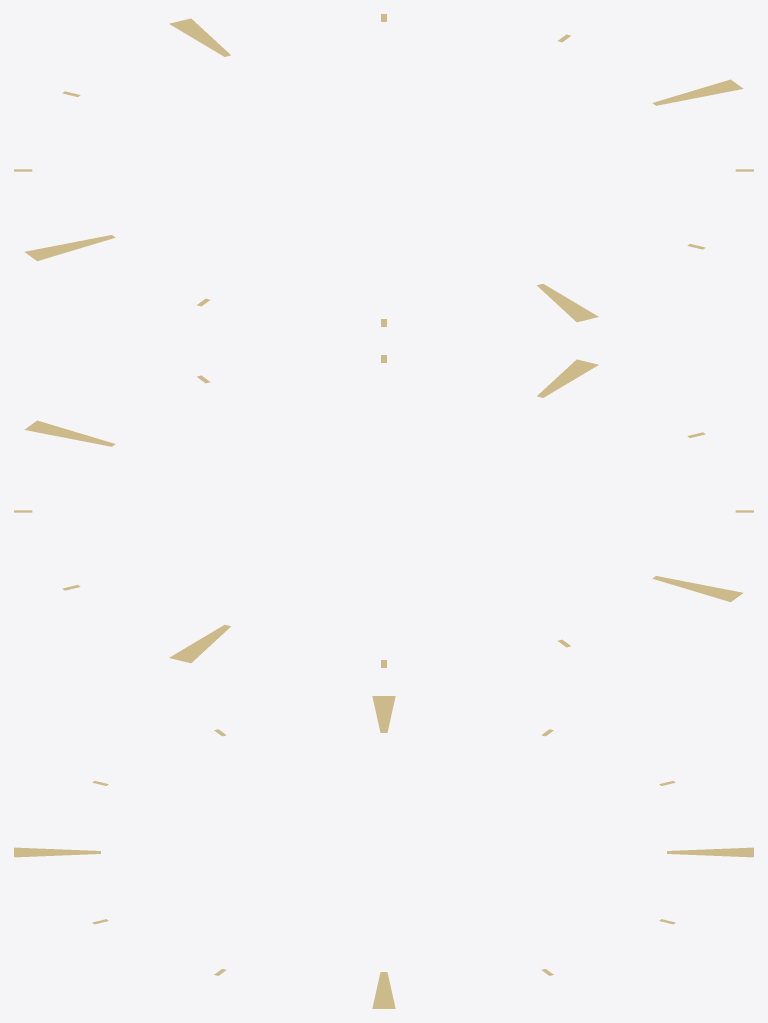
Rendered from watch_index.glb.
3 renders of one model, top to bottom at view 1: azimuth 30°, elevation 25°; view 2: azimuth 150°, elevation 25°; view 3: azimuth 270°, elevation 25°, orthographic. The views are drawn at different scales.
Parts seen in each view (by area): view 1: watch_index; view 2: watch_index; view 3: watch_index.
Boxes of the visible parts, x1,y1,x2,y2 form: watch_index: [14, 14, 753, 326]; watch_index: [14, 355, 753, 667]; watch_index: [14, 696, 753, 1008].
Bounding box in the file's own units: 1.43 × 0.000236 × 1.43.
